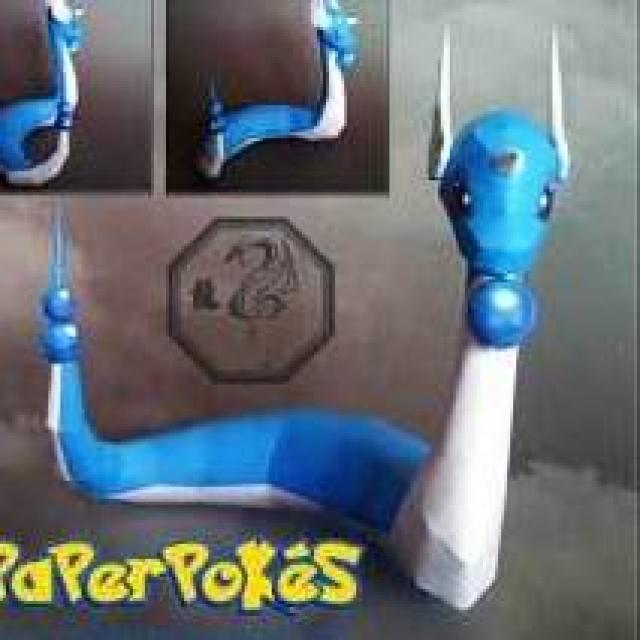Dragonair: (362, 44, 575, 607)
